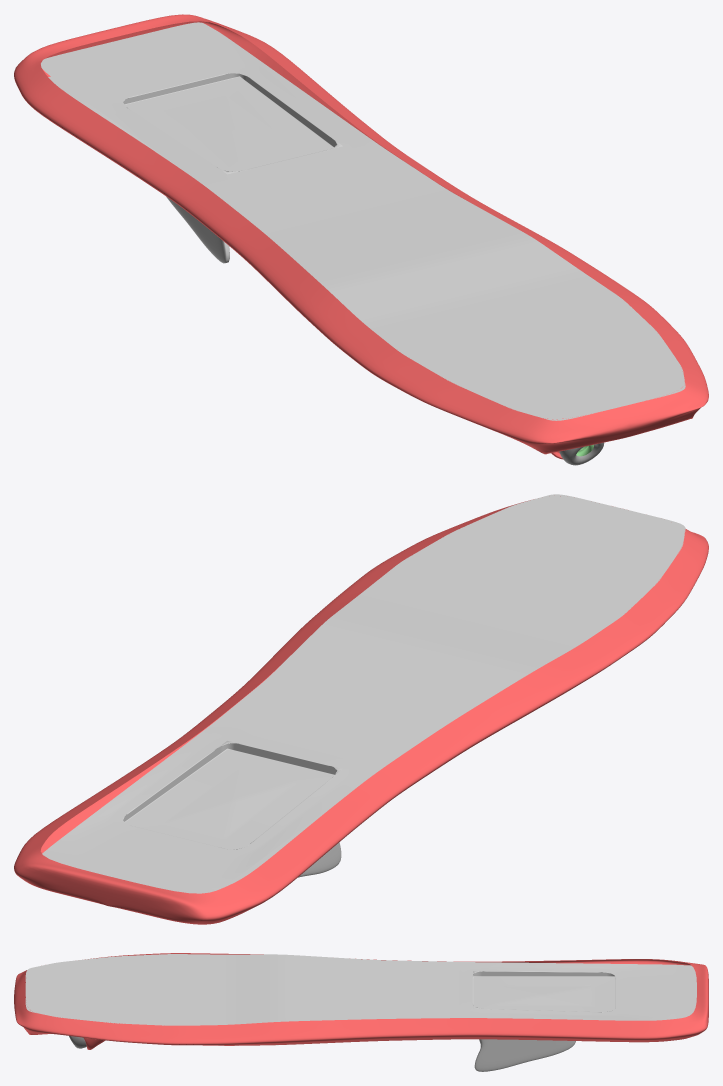
Rendered from rentons_lift_board_eureka_7.glb.
3 views of the same model, one above another, from view 1: azimuth 30°, elevation 25°; view 2: azimuth 150°, elevation 25°; view 3: azimuth 270°, elevation 25° (orthographic). The views are drawn at different scales.
Parts seen in each view (by area): view 1: Cylinder, Cylinder.002, Cube; view 2: Cylinder, Cylinder.002; view 3: Cylinder, Cylinder.002, Cube.
Boxes of the visible parts, left/top/right/bottom form: Cylinder: left=41, top=22, right=685, bottom=420; Cylinder.002: left=14, top=14, right=708, bottom=454; Cube: left=166, top=196, right=229, bottom=263; Cylinder: left=42, top=494, right=685, bottom=893; Cylinder.002: left=14, top=496, right=708, bottom=924; Cylinder: left=25, top=954, right=696, bottom=1045; Cylinder.002: left=14, top=953, right=708, bottom=1045; Cube: left=474, top=1018, right=575, bottom=1071.
Bounding box in the file's own units: 4.56 × 1.5 × 14.9.
